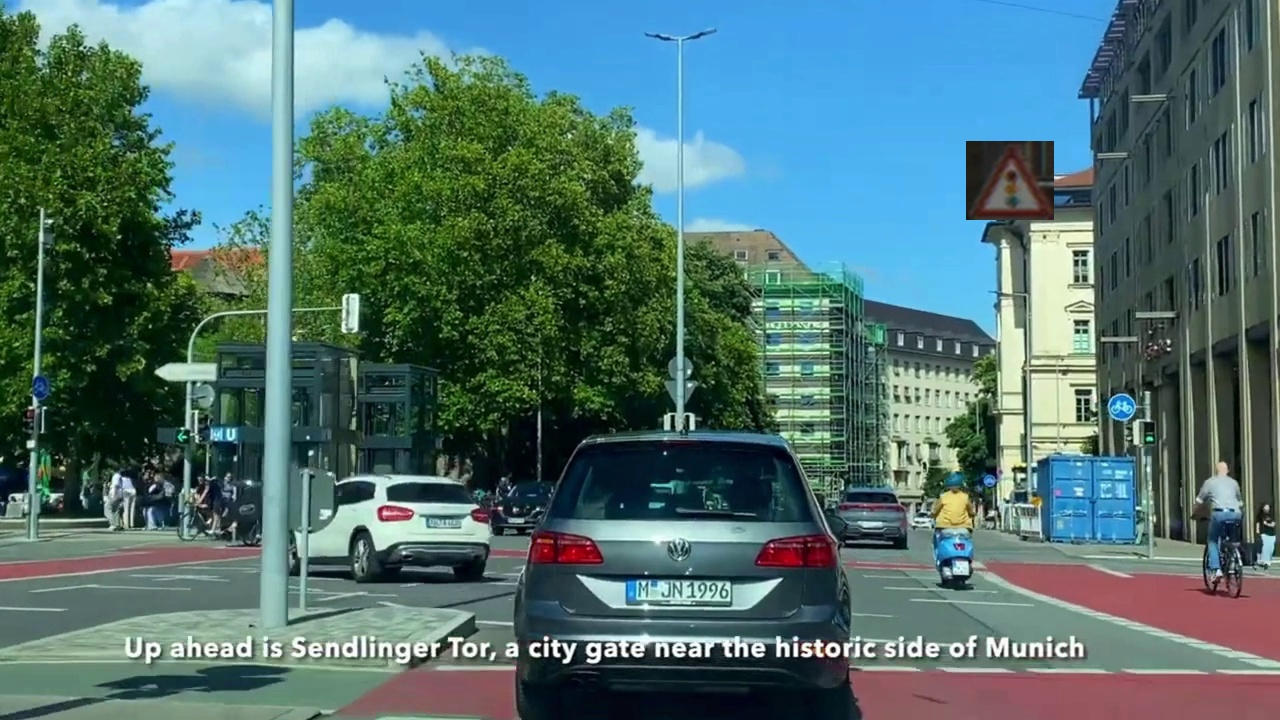Signals: (966, 141, 1054, 220)
